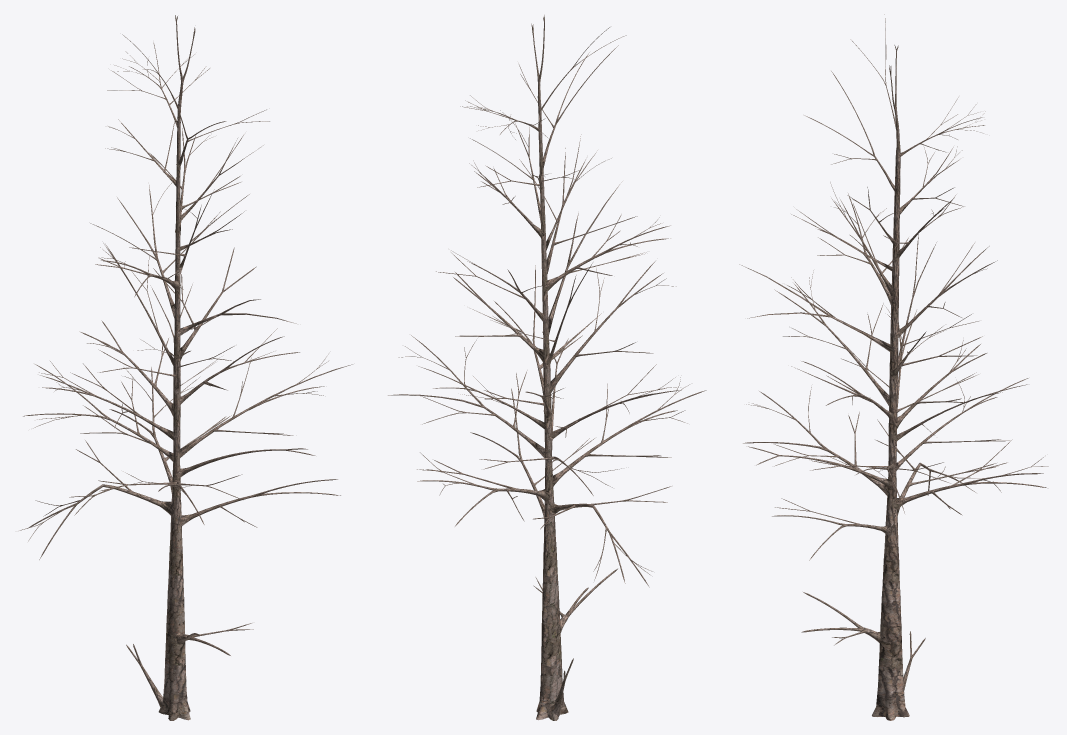
Rendered from Tree9.glb.
3 renders of one model, left to right at view 1: azimuth 30°, elevation 25°; view 2: azimuth 150°, elevation 25°; view 3: azimuth 270°, elevation 25°, orthographic. The views are drawn at different scales.
Parts seen in each view (by area): view 1: bottom_trunk, top_trunk, polySurface43, polySurface32, polySurface120, polySurface34, polySurface100, polySurface131, polySurface36, polySurface119Shape, polySurface62Shape, polySurface84Shape; view 2: bottom_trunk, top_trunk, polySurface32, polySurface119Shape, polySurface43, polySurface120, polySurface35, polySurface83, polySurface21, polySurface34, polySurface37, polySurface62Shape (+3 smaller); view 3: bottom_trunk, top_trunk, polySurface120, polySurface119Shape, polySurface35, polySurface21, polySurface43, polySurface100, polySurface131, polySurface36, polySurfaceShape66, polySurface83 (+4 smaller).
Part boxes in pixels (bbox=[...]): bottom_trunk: bbox=[158, 413, 190, 720]; top_trunk: bbox=[173, 83, 183, 414]; polySurface43: bbox=[19, 440, 174, 559]; polySurface32: bbox=[180, 354, 352, 457]; polySurface120: bbox=[80, 367, 231, 493]; polySurface34: bbox=[39, 361, 176, 441]; polySurface100: bbox=[23, 364, 173, 461]; polySurface131: bbox=[180, 479, 340, 527]; polySurface36: bbox=[90, 183, 220, 318]; polySurface119Shape: bbox=[98, 471, 242, 524]; polySurface62Shape: bbox=[179, 328, 299, 404]; polySurface84Shape: bbox=[79, 320, 173, 416]; bottom_trunk: bbox=[536, 414, 568, 720]; top_trunk: bbox=[537, 84, 551, 409]; polySurface32: bbox=[388, 335, 545, 457]; polySurface119Shape: bbox=[552, 377, 706, 486]; polySurface43: bbox=[533, 486, 671, 587]; polySurface120: bbox=[417, 452, 550, 526]; polySurface35: bbox=[550, 261, 676, 392]; polySurface83: bbox=[545, 214, 670, 290]; polySurface21: bbox=[542, 181, 646, 334]; polySurface34: bbox=[547, 364, 681, 441]; polySurface37: bbox=[519, 148, 637, 273]; polySurface62Shape: bbox=[470, 265, 601, 395]; bottom_trunk: bbox=[872, 426, 909, 720]; top_trunk: bbox=[888, 114, 900, 427]; polySurface120: bbox=[893, 439, 1048, 515]; polySurface119Shape: bbox=[743, 387, 888, 495]; polySurface35: bbox=[774, 270, 890, 405]; polySurface21: bbox=[739, 264, 894, 351]; polySurface43: bbox=[876, 419, 998, 515]; polySurface100: bbox=[895, 378, 1028, 470]; polySurface131: bbox=[772, 498, 892, 560]; polySurface36: bbox=[895, 243, 997, 339]; polySurfaceShape66: bbox=[801, 592, 882, 645]; polySurface83: bbox=[817, 193, 908, 306].
Size of the model in its own units: 3.05 by 6.87 by 2.93.
1 material, 1 textured.
